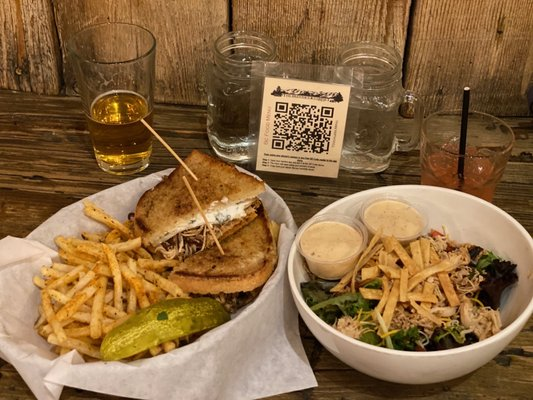curry: (389, 325, 428, 351)
pizza: (56, 0, 230, 112)
soup: (134, 149, 285, 301)
sushi: (287, 183, 533, 385)
